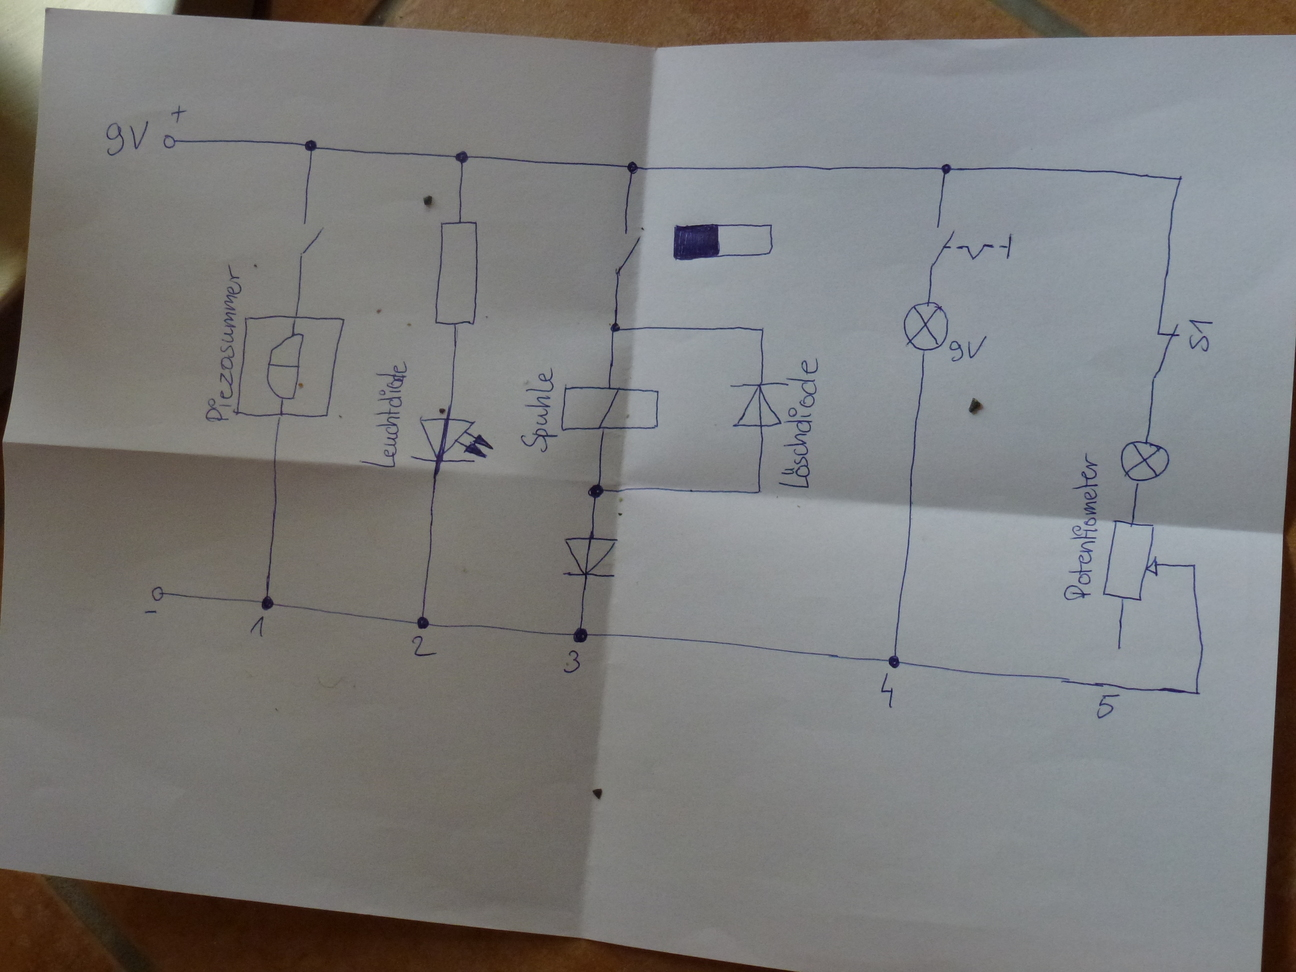diode: (726, 380, 790, 430), (560, 534, 621, 582)
diode.light_emitting: (409, 414, 496, 467)
inductor: (558, 382, 665, 434)
junction: (570, 622, 591, 646), (585, 481, 607, 502), (624, 159, 644, 177), (452, 148, 471, 165), (302, 136, 319, 154), (886, 652, 903, 670), (607, 319, 624, 337), (414, 614, 431, 632), (258, 593, 275, 611), (1189, 684, 1204, 701), (938, 161, 955, 176), (1170, 172, 1186, 187), (756, 323, 770, 336), (1187, 558, 1199, 572), (752, 485, 763, 497)
lamp: (899, 300, 951, 352), (1119, 439, 1172, 483)
resistor: (431, 218, 481, 329)
resistor.adjustable: (1100, 515, 1165, 604)
speaker: (232, 314, 347, 420)
switch: (925, 221, 1020, 271), (1147, 322, 1182, 382), (612, 227, 647, 280), (296, 216, 328, 259)
terminal: (149, 583, 169, 603), (160, 130, 179, 151)
text: (203, 262, 244, 424), (1059, 449, 1101, 604), (776, 354, 823, 492), (357, 357, 410, 469), (522, 366, 556, 453), (102, 117, 152, 156), (947, 336, 988, 364), (1183, 319, 1214, 353), (877, 675, 900, 709), (1093, 692, 1120, 721), (409, 633, 436, 660), (561, 648, 583, 677), (247, 615, 267, 639)
